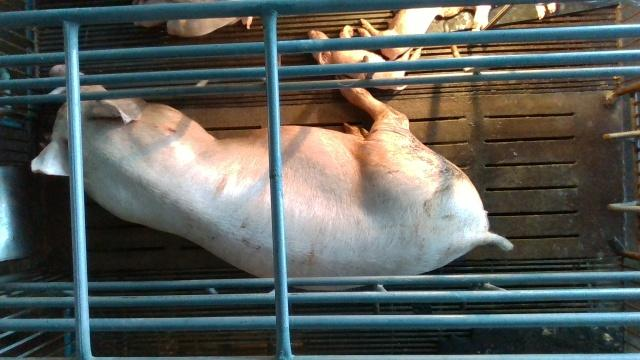piglet: (359, 0, 493, 57), (309, 27, 424, 92), (169, 15, 252, 36)
sow-sit: (30, 61, 515, 293)
